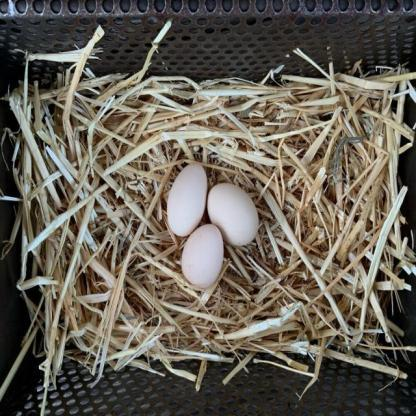egg: (159, 146, 211, 237), (180, 219, 232, 301), (208, 178, 266, 248)
